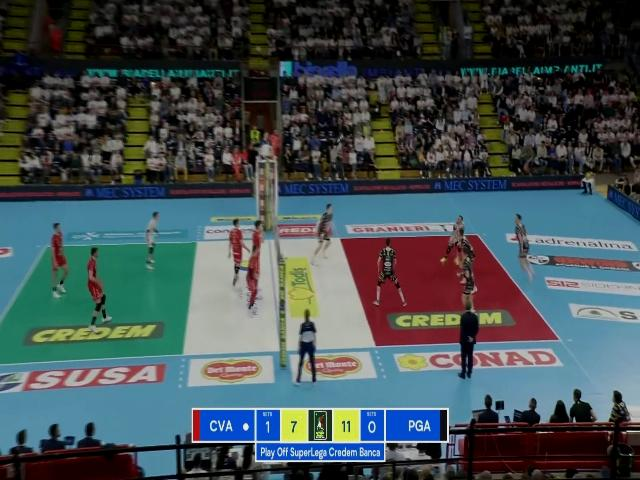volleyball court: (1, 231, 560, 354)
